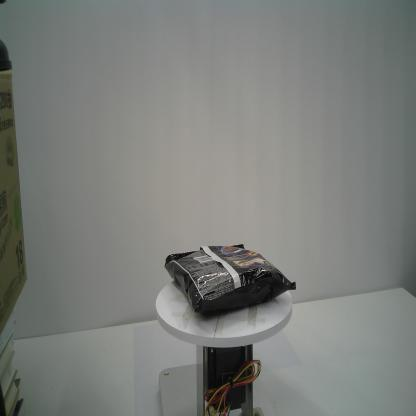Instant Noodles: (162, 241, 298, 321)
